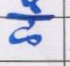ai_matra: (21, 0, 45, 14)
